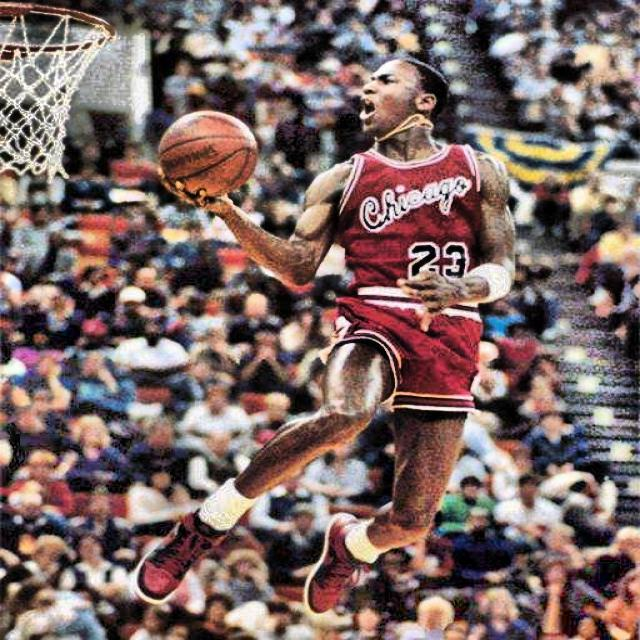board: (158, 111, 260, 200)
rim: (0, 0, 115, 183)
